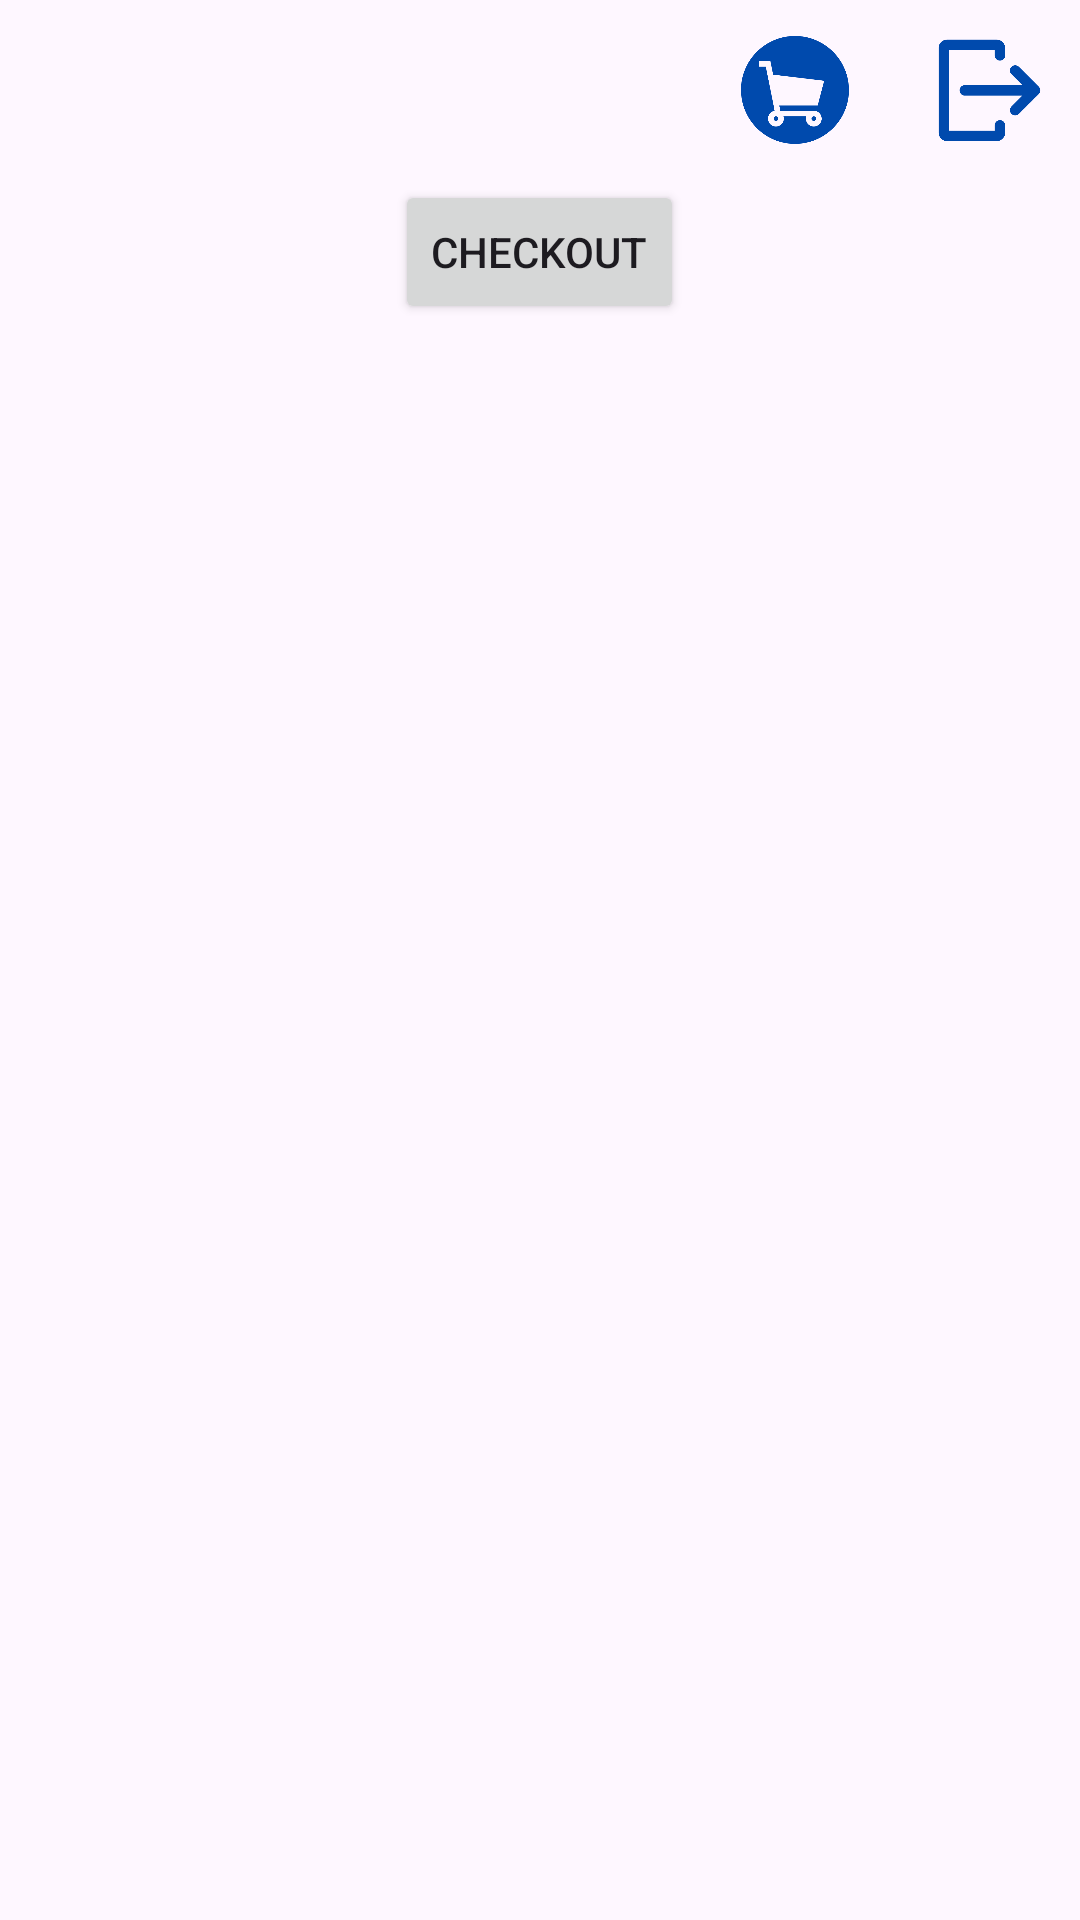

Icons on this 1080 x 1920 Android screen, each with its box as (x1, y1, x2, y2):
shop: (741, 36, 849, 144)
